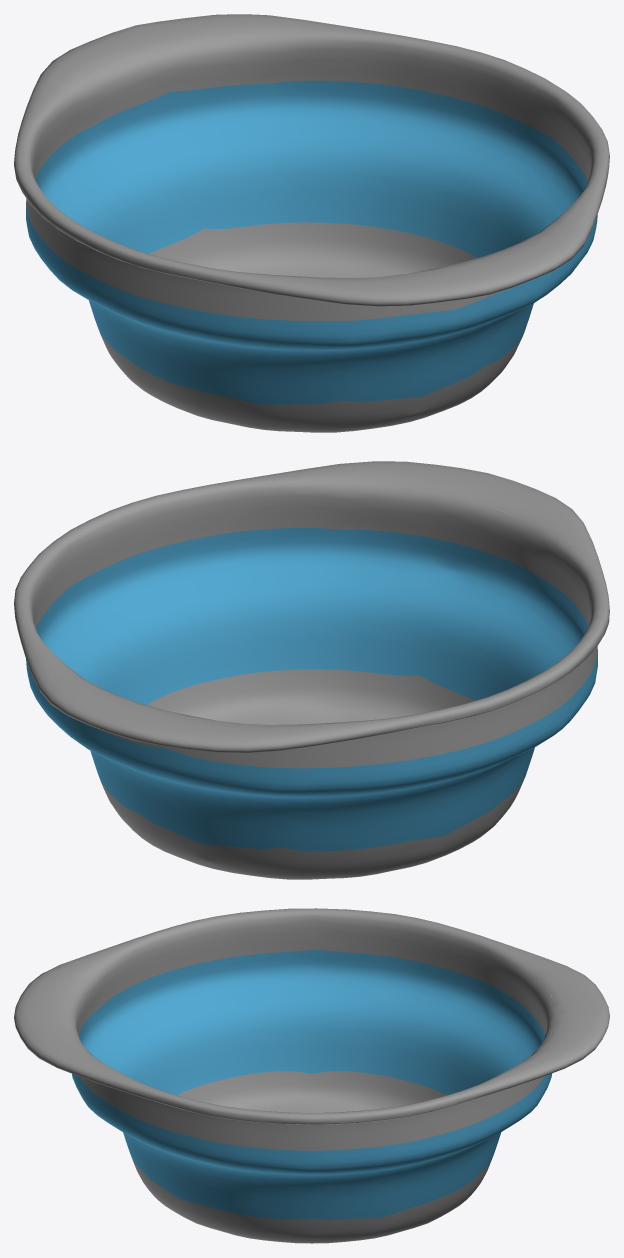
The model's file is SM_BluePlasticBowl.dae.
3 views of the same model, one above another, from view 1: azimuth 30°, elevation 25°; view 2: azimuth 150°, elevation 25°; view 3: azimuth 270°, elevation 25° (orthographic). The views are drawn at different scales.
Parts seen in each view (by area): view 1: SM_BluePlasticBowl_LOD0; view 2: SM_BluePlasticBowl_LOD0; view 3: SM_BluePlasticBowl_LOD0.
Part boxes in pixels (bbox=[...]): SM_BluePlasticBowl_LOD0: bbox=[14, 14, 609, 432]; SM_BluePlasticBowl_LOD0: bbox=[14, 461, 609, 879]; SM_BluePlasticBowl_LOD0: bbox=[14, 908, 609, 1243].
Size of what is drawn, in the model's own units: 0.2351 by 0.2815 by 0.0891.
